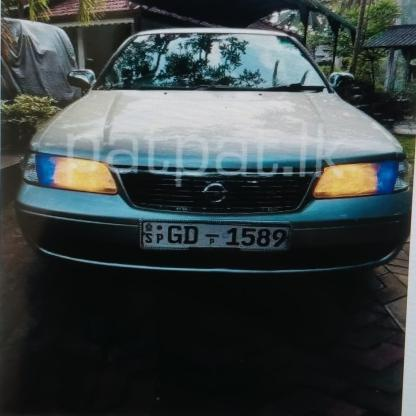car front: (20, 21, 407, 296)
number plate: (137, 216, 291, 252)
